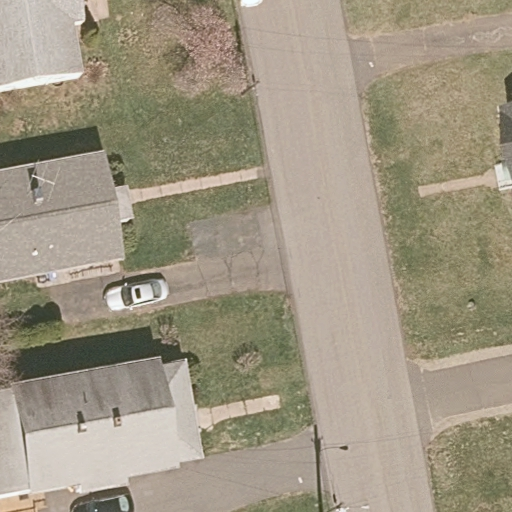DT: (317, 494, 369, 512)
